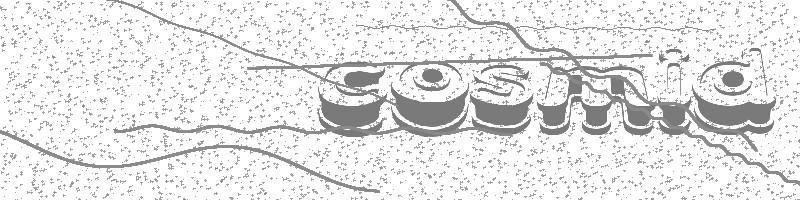c: (317, 62, 388, 137)
d: (691, 47, 777, 135)
i: (657, 47, 692, 136)
m: (536, 66, 653, 136)
o: (389, 61, 470, 137)
s: (469, 64, 534, 135)
